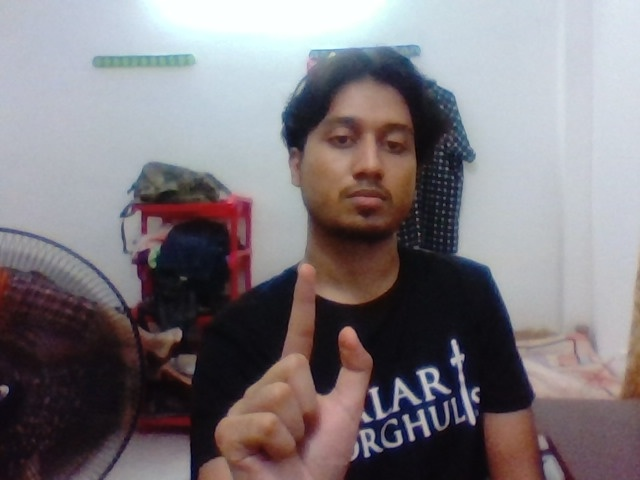J: (228, 246, 377, 445)
